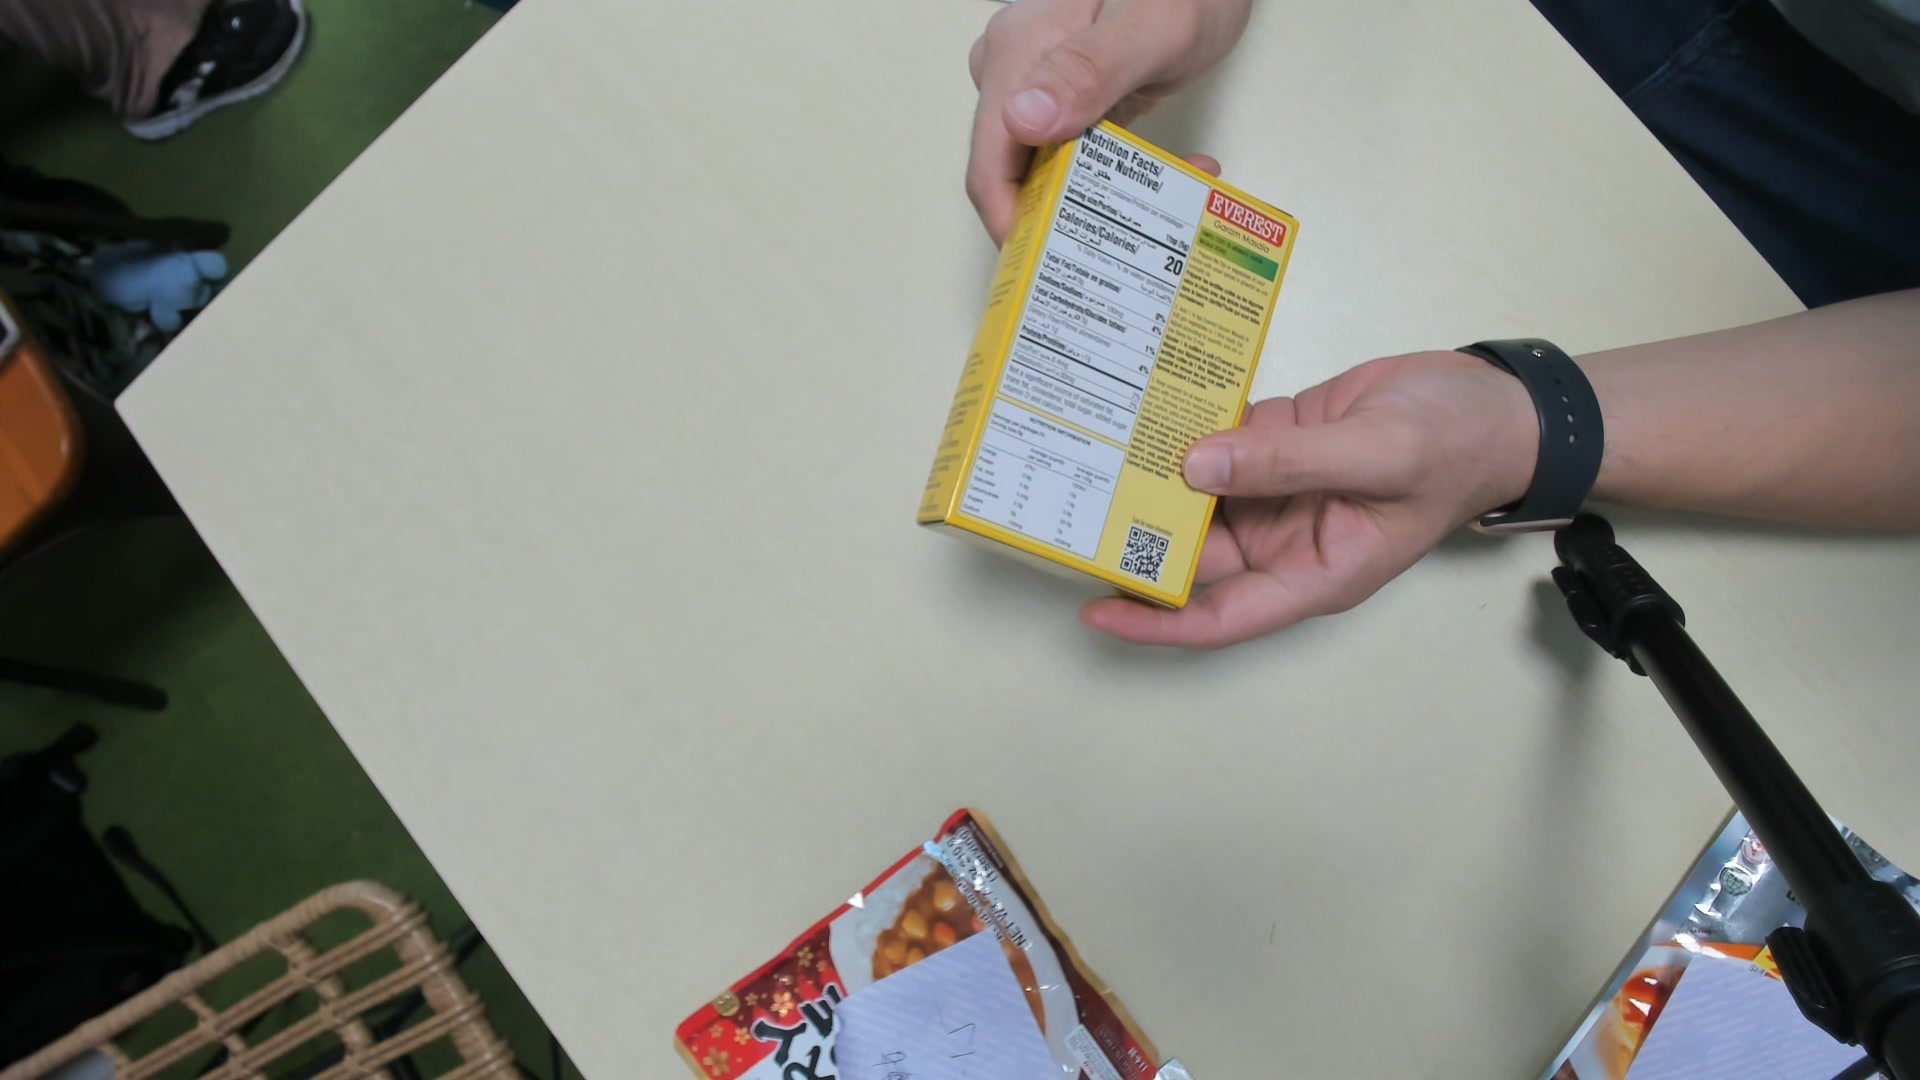CurryPastePowderSauce_100-199g_NonHalal_NonHealthy: (915, 115, 1305, 613)
